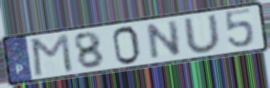0: (111, 25, 143, 66)
5: (223, 6, 257, 51)
8: (73, 30, 106, 70)
M: (30, 32, 75, 78)
N: (145, 18, 183, 62)
U: (181, 13, 224, 55)
